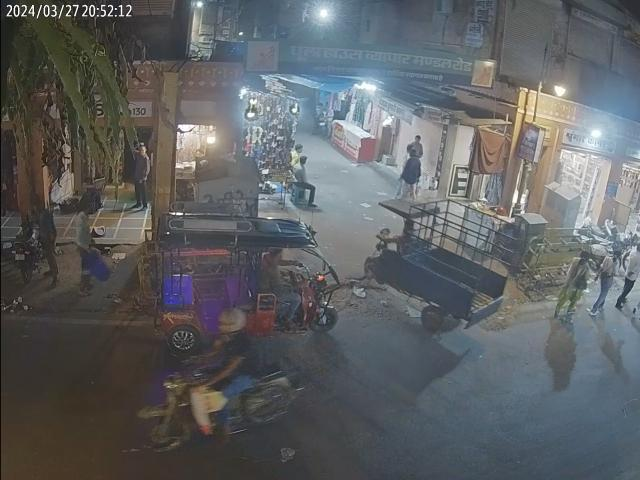auto: (153, 212, 344, 340)
helmet: (217, 308, 248, 333)
lorry: (359, 193, 516, 328)
motorbike: (10, 216, 40, 282)
motorbike-rider: (136, 316, 306, 444)
person: (29, 193, 58, 286), (73, 202, 97, 289), (556, 249, 584, 319), (592, 249, 618, 311), (129, 142, 148, 209), (295, 155, 318, 207), (400, 146, 424, 194)
